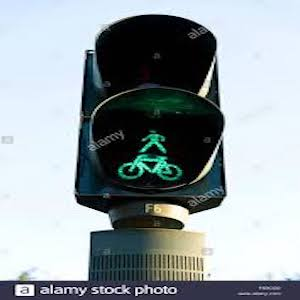green: (113, 120, 188, 185)
